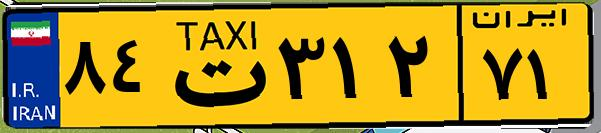1: (330, 28, 385, 110), (525, 38, 570, 115)
2: (385, 28, 445, 110)
3: (270, 28, 330, 110)
4: (110, 28, 158, 98)
7: (475, 38, 525, 113)
8: (57, 26, 110, 100)
ت: (158, 12, 270, 120)
